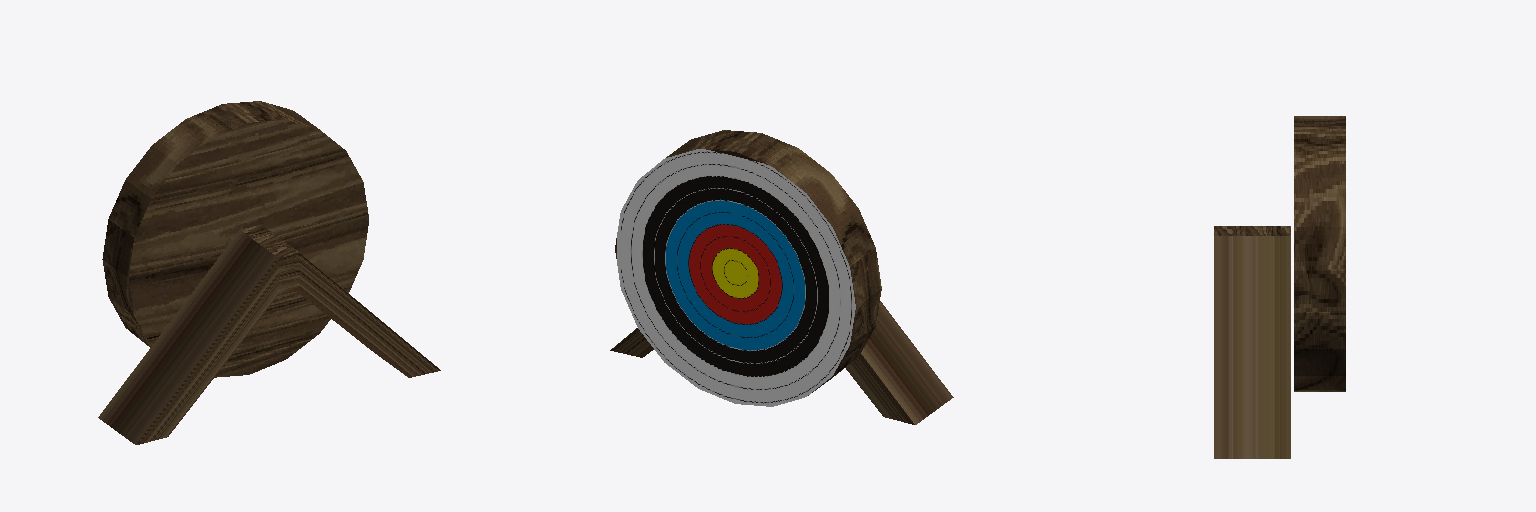
The picture shows the model from 3 angles: view 1: azimuth 30°, elevation 25°; view 2: azimuth 150°, elevation 25°; view 3: azimuth 270°, elevation 25°; orthographic projection.
Visible parts, largest first — view 1: target.001, pedestal.002; view 2: target.001, pedestal.002; view 3: pedestal.002, target.001.
Part boxes in pixels (bbox=[...]): target.001: bbox=[102, 101, 368, 377]; pedestal.002: bbox=[98, 225, 440, 444]; target.001: bbox=[615, 130, 881, 406]; pedestal.002: bbox=[610, 301, 953, 424]; pedestal.002: bbox=[1214, 226, 1290, 458]; target.001: bbox=[1294, 116, 1345, 391].
Size of the model in its own units: 2.54 by 2.03 by 0.9419.
Materials: 1 (1 with a texture image).